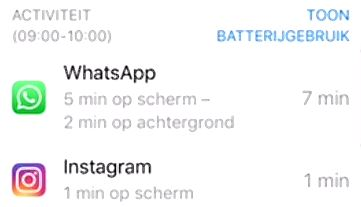activity: (8, 5, 115, 46)
app: (7, 61, 355, 130), (6, 148, 353, 207)
